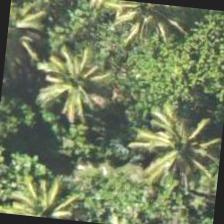Kelapa_Sawit: (13, 38, 112, 137), (121, 81, 220, 180)
